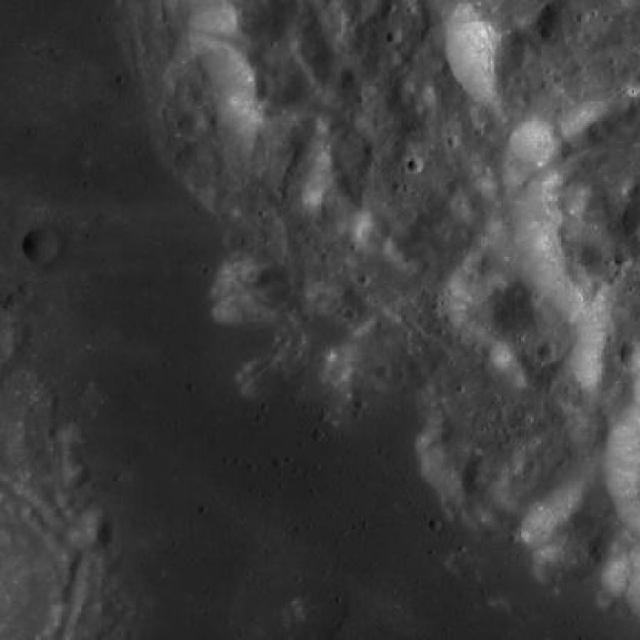crater: (22, 228, 58, 263), (178, 108, 207, 136), (48, 422, 68, 442), (538, 344, 558, 362), (614, 252, 631, 268), (374, 364, 392, 379)
